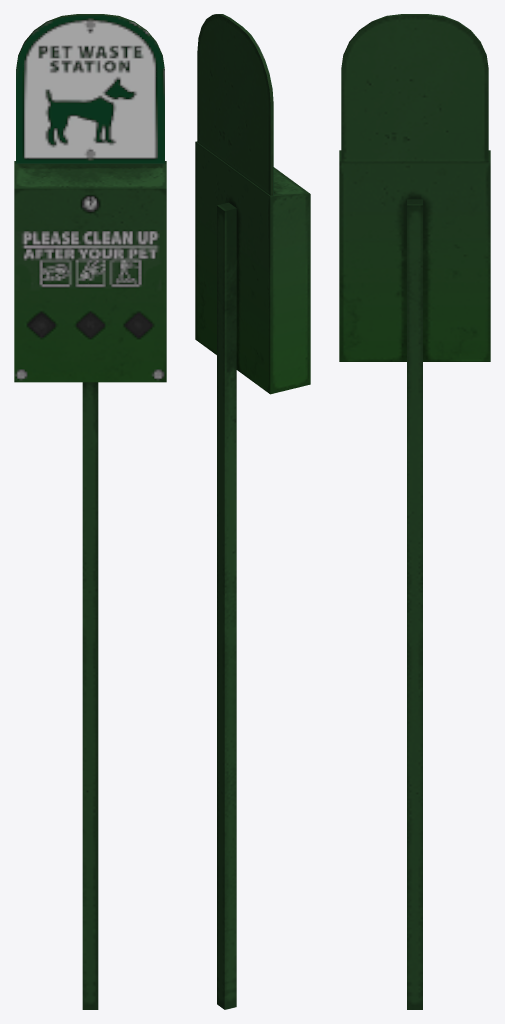
The model's file is MB_Pet_Waste_Station.fbx.
3 views of the same model, side by side, from view 1: azimuth 90°, elevation 25°; view 2: azimuth 210°, elevation 25°; view 3: azimuth 270°, elevation 25° (orthographic).
Parts seen in each view (by area): view 1: MB_Pet_Waste_Station; view 2: MB_Pet_Waste_Station; view 3: MB_Pet_Waste_Station.
Part boxes in pixels (x1=…): MB_Pet_Waste_Station: x1=14, y1=14, x2=166, y2=1009; MB_Pet_Waste_Station: x1=195, y1=14, x2=310, y2=1009; MB_Pet_Waste_Station: x1=339, y1=14, x2=490, y2=1009.
Size of the model in its own units: 8.46 by 151 by 20.97.
